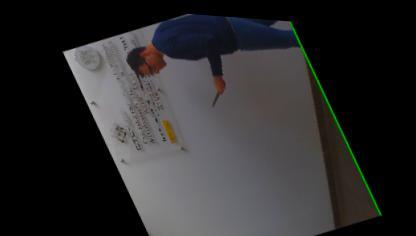knife: (198, 75, 233, 107)
